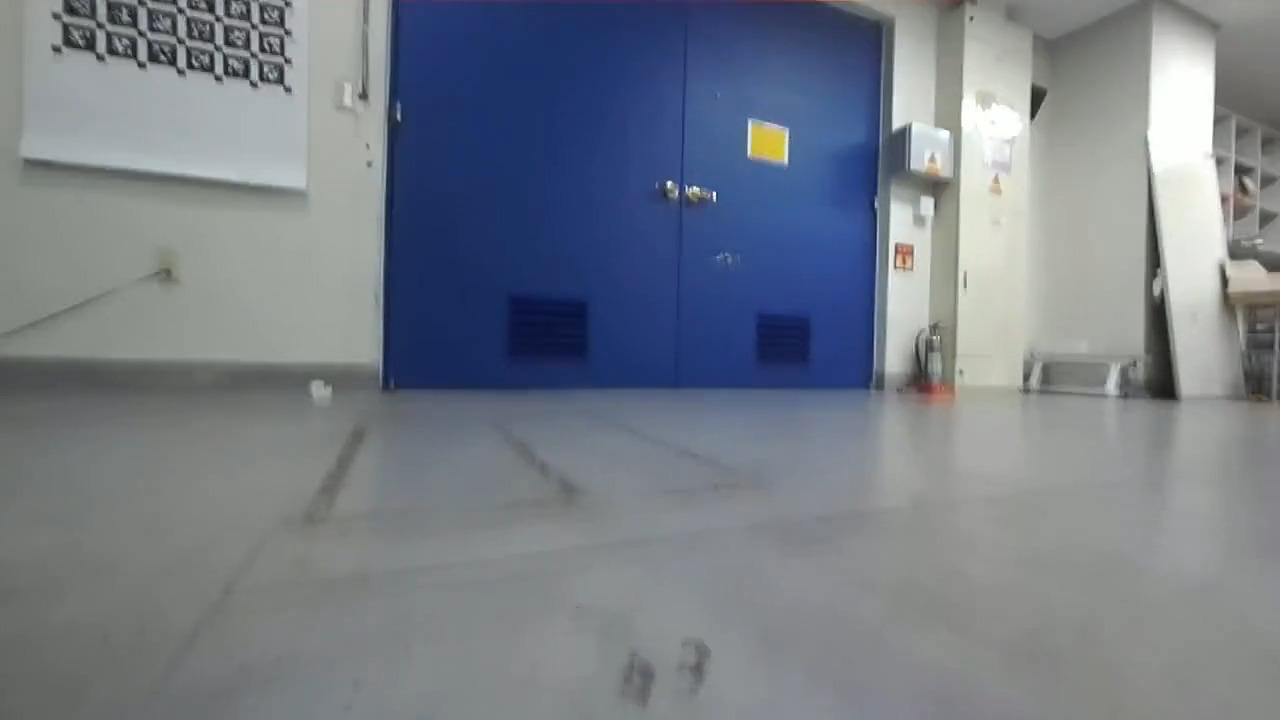crazyflie: (697, 244, 754, 270)
